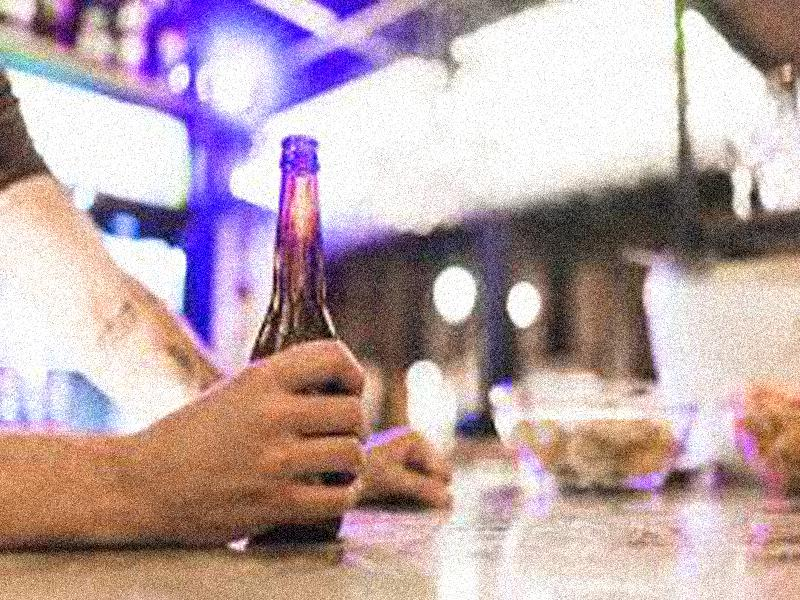Beer: (250, 134, 340, 541)
